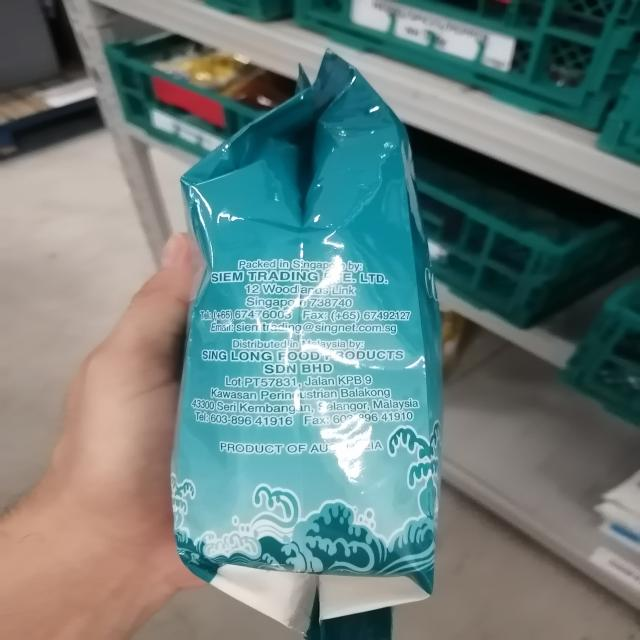object_name: (198, 112, 435, 611)
